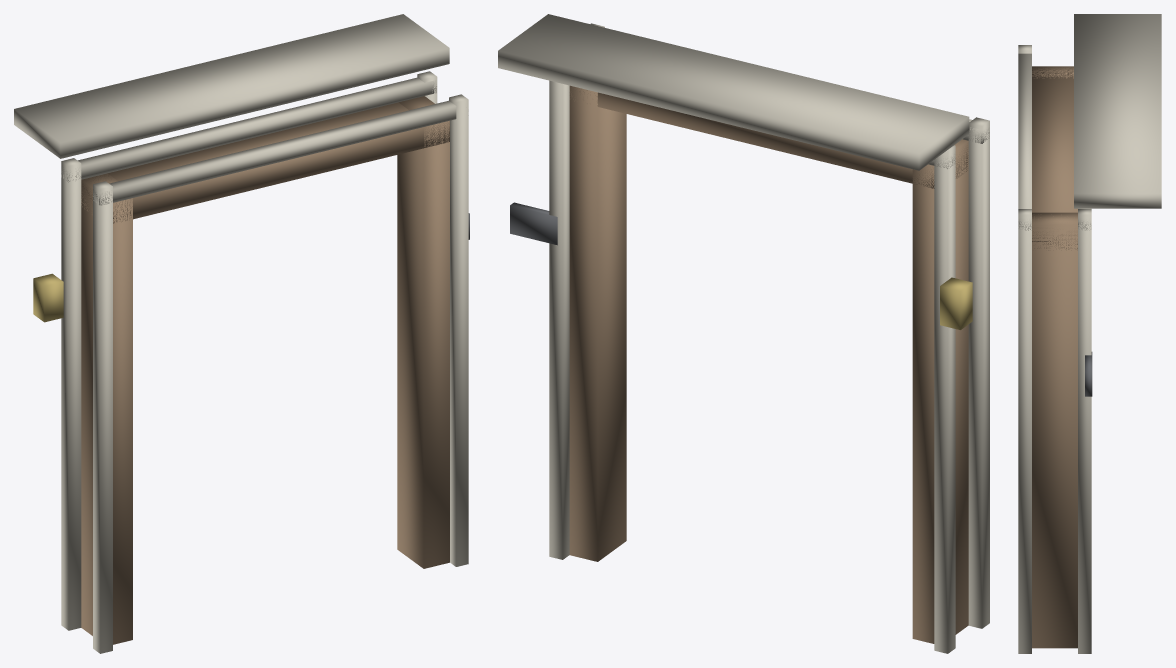
The model's file is doorway_motel_w152_h210_d24.glb.
3 renders of one model, left to right at view 1: azimuth 30°, elevation 25°; view 2: azimuth 150°, elevation 25°; view 3: azimuth 270°, elevation 25°, orthographic. The views are drawn at different scales.
Visible parts, largest first — view 1: world; view 2: world; view 3: world.
Part boxes in pixels (x1=…): world: x1=14, y1=14, x2=469, y2=653; world: x1=498, y1=14, x2=989, y2=653; world: x1=1018, y1=14, x2=1161, y2=653.
Bounding box in the file's own units: 2.22 × 2.46 × 0.6858.
